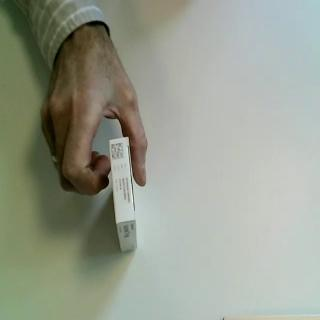oxycontin15mg: (109, 135, 140, 255)
